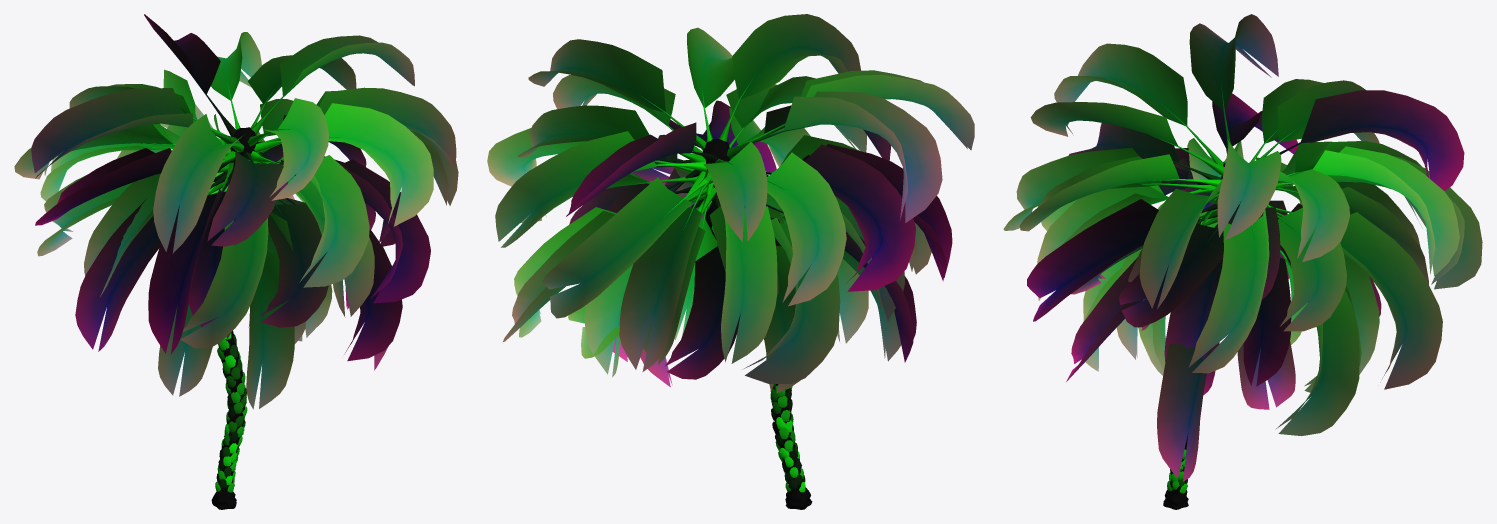
Rendered from mv_PalmC.fbx.
The picture shows the model from 3 angles, left to right: view 1: azimuth 30°, elevation 25°; view 2: azimuth 150°, elevation 25°; view 3: azimuth 270°, elevation 25°; orthographic projection. The views are drawn at different scales.
Visible parts, largest first — view 1: PalmC_LOD0; view 2: PalmC_LOD0; view 3: PalmC_LOD0.
Boxes of the visible parts, x1,y1,x2,y2 form: PalmC_LOD0: [14, 14, 458, 509]; PalmC_LOD0: [487, 14, 974, 509]; PalmC_LOD0: [1003, 14, 1482, 509].
Size of what is drawn, in the model's own units: 578 by 546 by 540.
